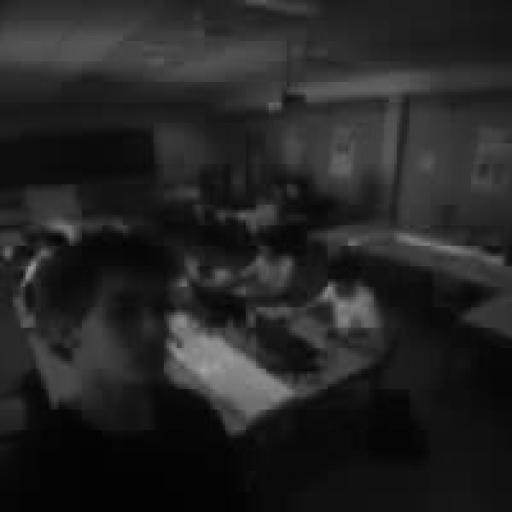human: (6, 228, 243, 511), (292, 249, 386, 355), (14, 233, 79, 328), (228, 236, 296, 302)
